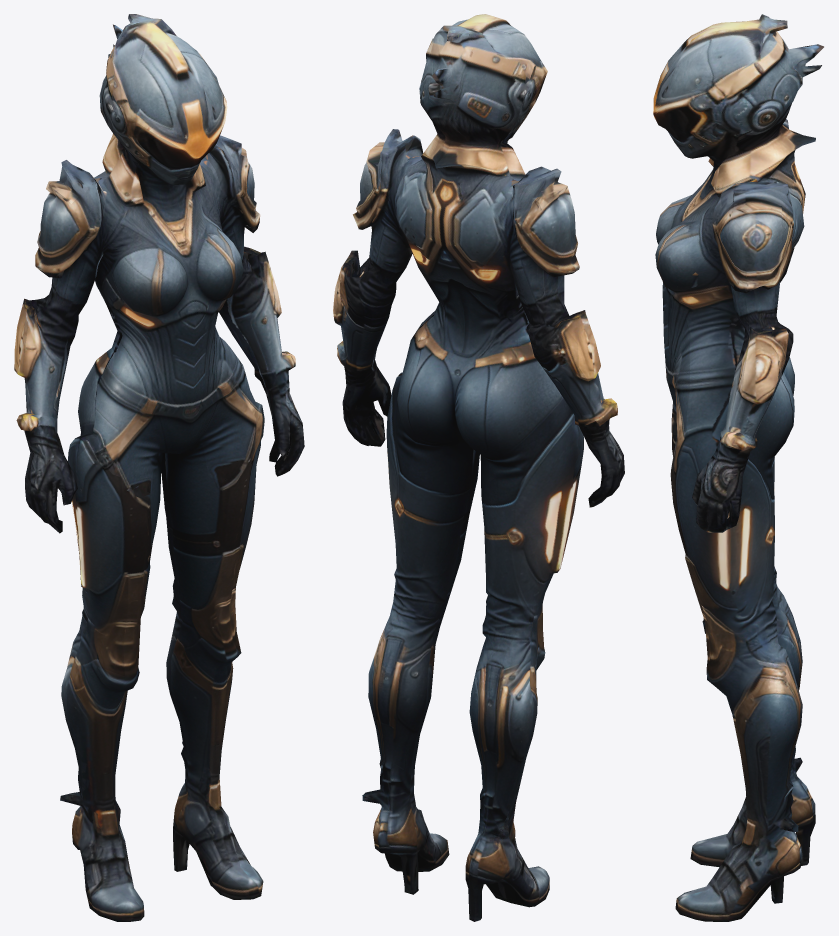
Rendered from 3d_trellis_ai-_scifi_armor_test_4.glb.
3 views of the same model, side by side, from view 1: azimuth 30°, elevation 25°; view 2: azimuth 150°, elevation 25°; view 3: azimuth 270°, elevation 25° (orthographic).
Visible parts, largest first — view 1: world_1; view 2: world_1; view 3: world_1.
Boxes of the visible parts, x1=… form: world_1: x1=14, y1=14, x2=304, y2=921; world_1: x1=333, y1=14, x2=624, y2=921; world_1: x1=653, y1=14, x2=823, y2=921.
Bounding box in the file's own units: 0.3322 × 1 × 0.1806.
Materials: 1 (1 with a texture image).
